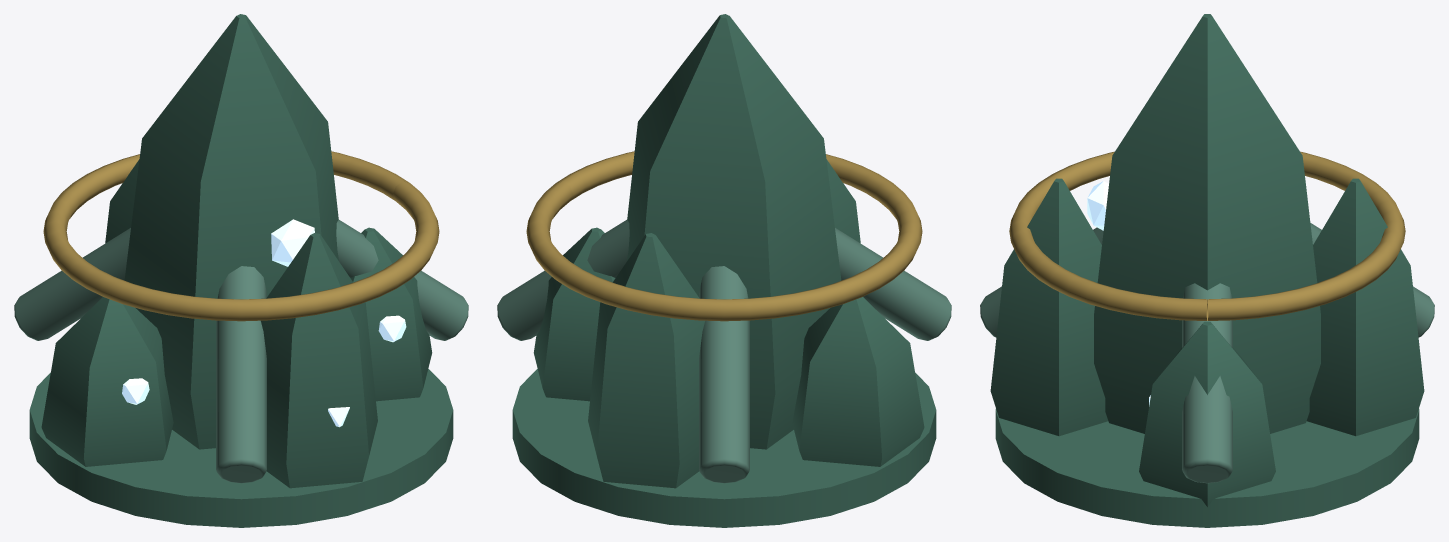
3 renders of one model, left to right at view 1: azimuth 30°, elevation 25°; view 2: azimuth 150°, elevation 25°; view 3: azimuth 270°, elevation 25°, orthographic.
Parts seen in each view (by area): view 1: Faceted crystal tower, Foundation drum, Faceted crystal tower.004, Faceted crystal tower.003, Crystal conductive halo, Crystal radial strut.002, Faceted crystal tower.001, Crystal radial strut.001, Crystal radial strut, Faceted crystal tower.002, Central luminous node, Crystal luminous node.002 (+1 smaller); view 2: Faceted crystal tower, Foundation drum, Faceted crystal tower.002, Faceted crystal tower.003, Crystal conductive halo, Crystal radial strut.001, Faceted crystal tower.001, Crystal radial strut.002, Crystal radial strut, Faceted crystal tower.004; view 3: Faceted crystal tower, Foundation drum, Faceted crystal tower.002, Faceted crystal tower.004, Crystal conductive halo, Faceted crystal tower.001, Crystal radial strut, Crystal radial strut.001, Crystal radial strut.002, Central luminous node.
Part boxes in pixels (left/top/right/bottom): Faceted crystal tower: left=124, top=14, right=338, bottom=449; Foundation drum: left=29, top=369, right=453, bottom=527; Faceted crystal tower.004: left=261, top=233, right=377, bottom=488; Faceted crystal tower.003: left=41, top=297, right=173, bottom=466; Crystal conductive halo: left=43, top=151, right=439, bottom=321; Crystal radial strut.002: left=216, top=266, right=266, bottom=483; Faceted crystal tower.001: left=350, top=227, right=432, bottom=401; Crystal radial strut.001: left=14, top=228, right=130, bottom=340; Crystal radial strut: left=336, top=219, right=468, bottom=340; Faceted crystal tower.002: left=105, top=159, right=139, bottom=243; Central luminous node: left=271, top=219, right=314, bottom=266; Crystal luminous node.002: left=122, top=378, right=149, bottom=404; Faceted crystal tower: left=627, top=14, right=841, bottom=449; Foundation drum: left=512, top=369, right=936, bottom=527; Faceted crystal tower.002: left=588, top=233, right=704, bottom=488; Faceted crystal tower.003: left=792, top=297, right=924, bottom=466; Crystal conductive halo: left=526, top=151, right=922, bottom=321; Crystal radial strut.001: left=699, top=266, right=749, bottom=483; Faceted crystal tower.001: left=533, top=227, right=615, bottom=401; Crystal radial strut.002: left=835, top=228, right=951, bottom=340; Crystal radial strut: left=497, top=219, right=629, bottom=340; Faceted crystal tower.004: left=826, top=159, right=860, bottom=243; Faceted crystal tower: left=1094, top=14, right=1320, bottom=433; Foundation drum: left=995, top=409, right=1419, bottom=527; Faceted crystal tower.002: left=1306, top=178, right=1424, bottom=436; Faceted crystal tower.004: left=990, top=178, right=1108, bottom=436; Crystal conductive halo: left=1009, top=151, right=1405, bottom=320; Faceted crystal tower.001: left=1139, top=321, right=1275, bottom=506; Crystal radial strut: left=1182, top=283, right=1232, bottom=483; Crystal radial strut.001: left=1310, top=223, right=1434, bottom=337; Crystal radial strut.002: left=980, top=227, right=1103, bottom=337; Central luminous node: left=1087, top=181, right=1108, bottom=230.
Size of the model in its own units: 2.22 by 2.2 by 2.15.
